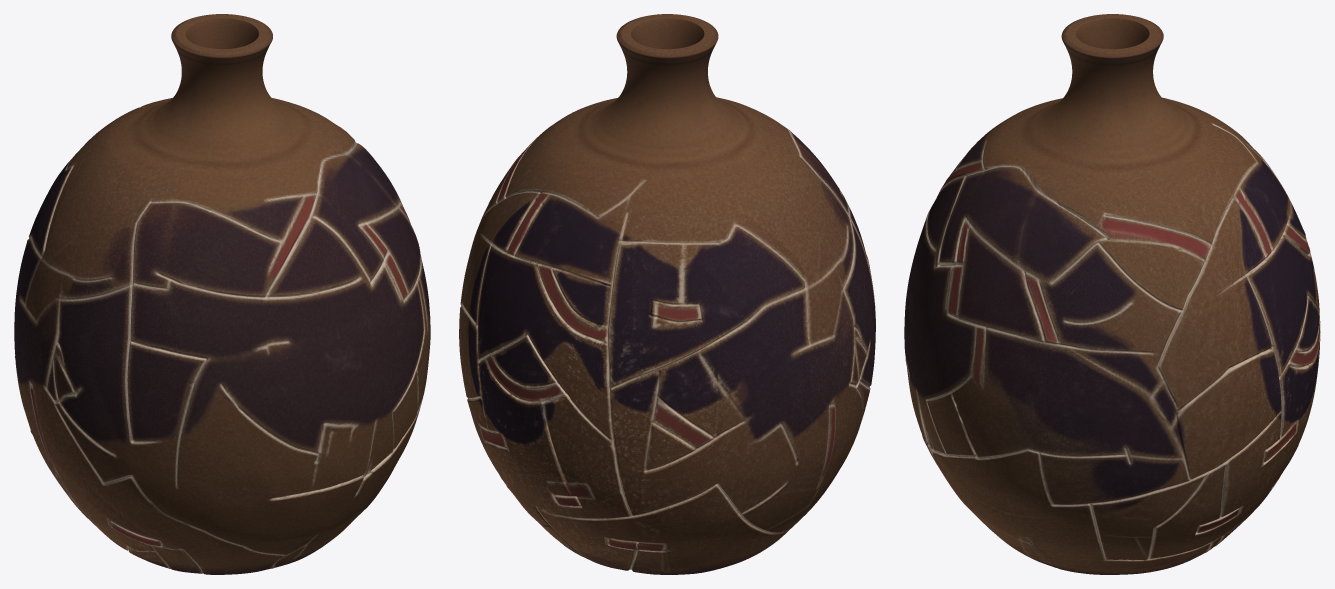
3 renders of one model, left to right at view 1: azimuth 30°, elevation 25°; view 2: azimuth 150°, elevation 25°; view 3: azimuth 270°, elevation 25°, orthographic.
Size of the model in its own units: 1.43 by 1.9 by 1.42.
Materials: 1 (1 with a texture image).
